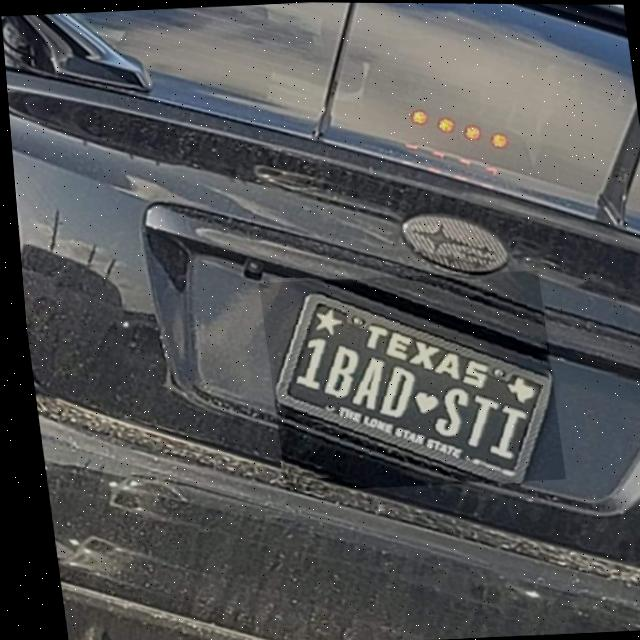LicensePlate: (253, 268, 558, 493)
